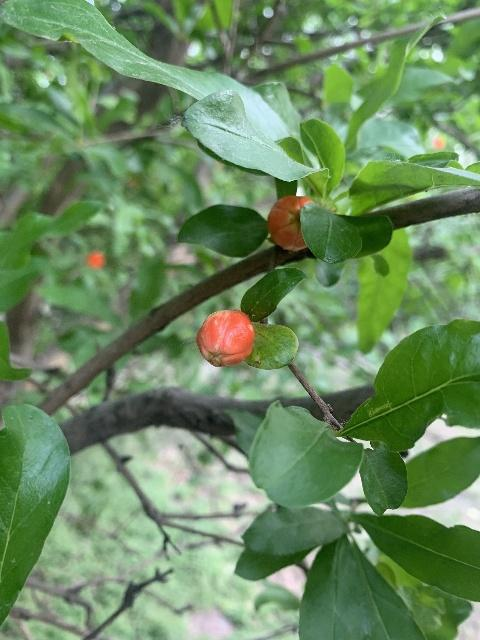bud: (196, 309, 254, 367), (267, 195, 316, 251)
